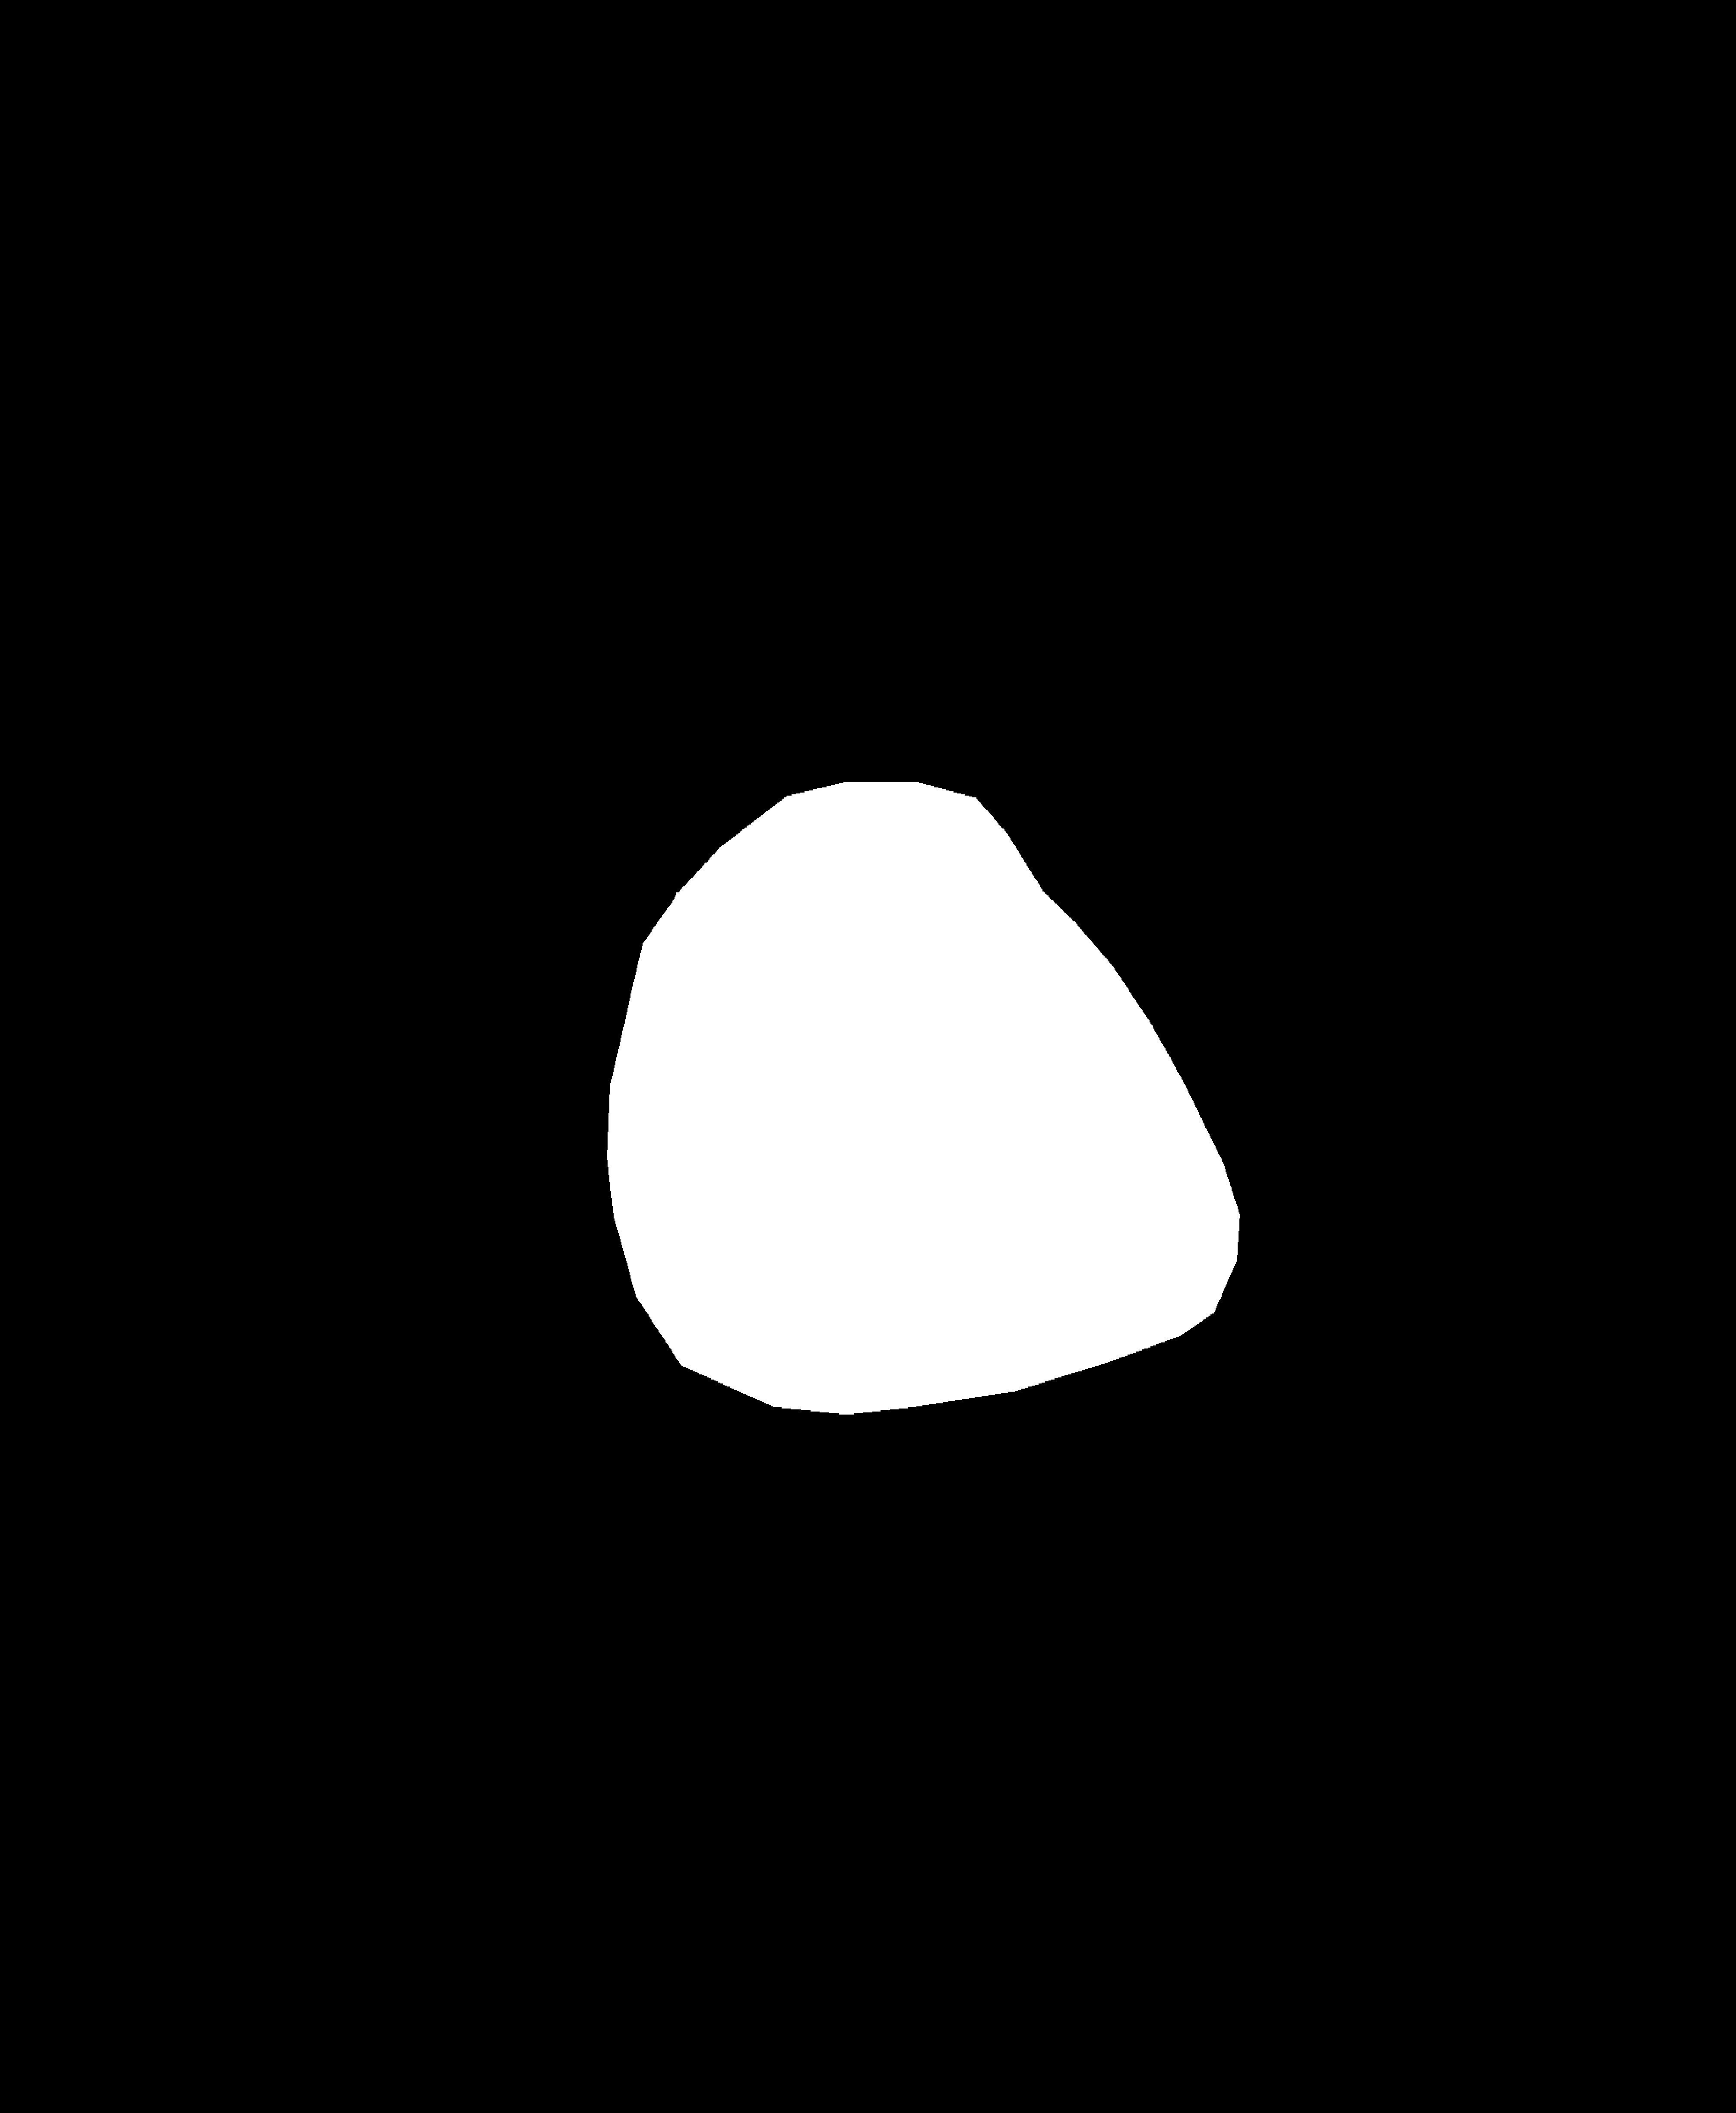heart: (592, 858, 1248, 1451)
left_lung: (179, 149, 783, 1485)
right_lung: (911, 158, 1478, 1525)
